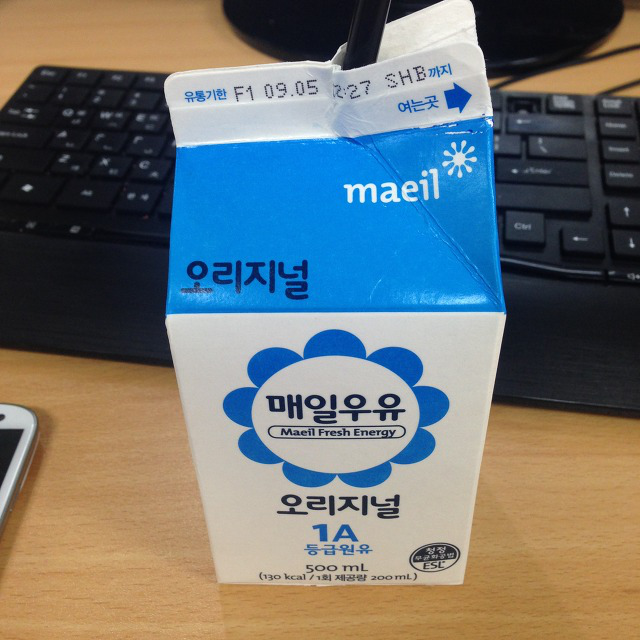milk: (160, 3, 508, 591)
